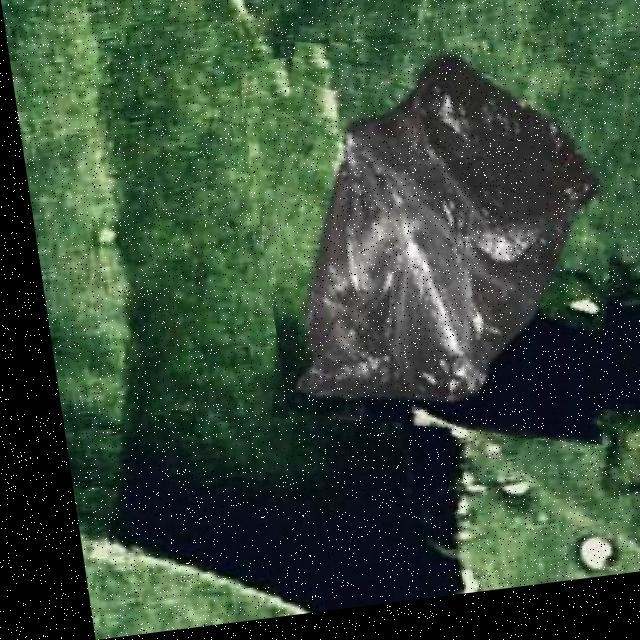plasticcover: (233, 34, 640, 474)
